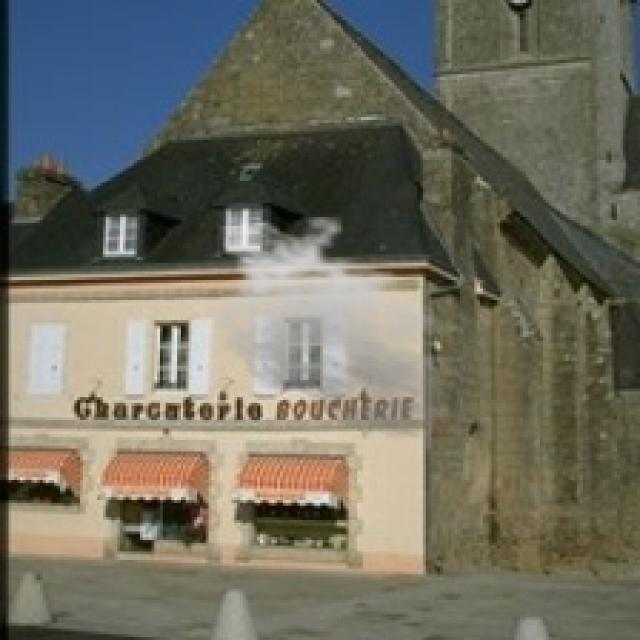Smoke: (206, 215, 474, 440)
